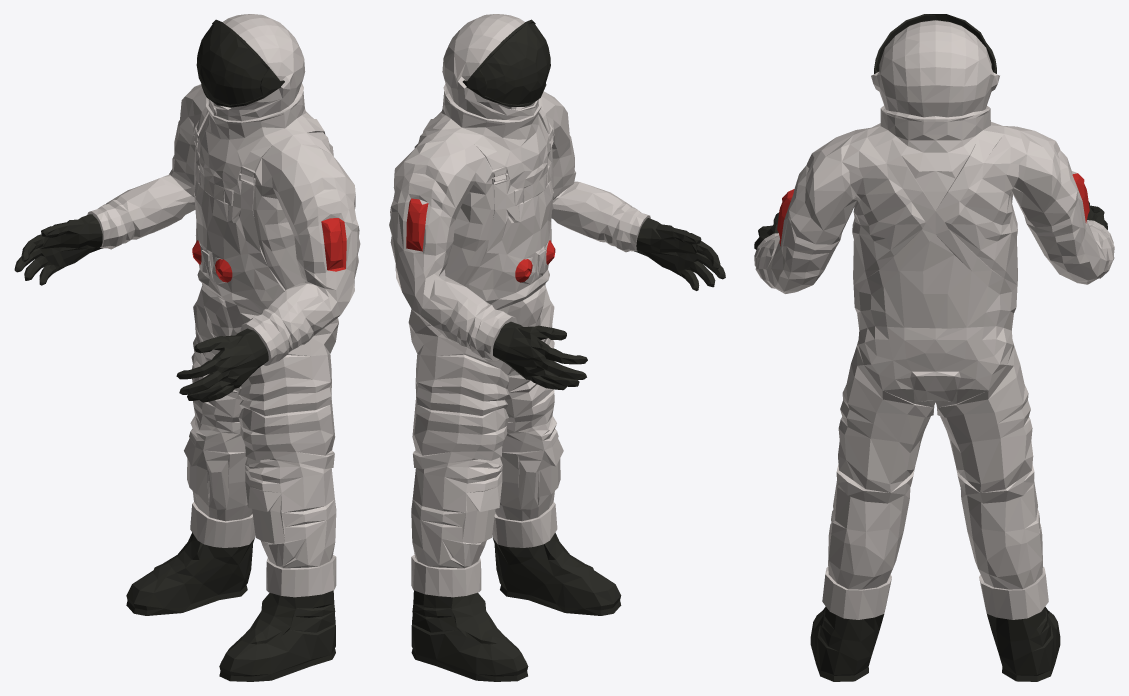
The model's file is 08  Astonaut_1.FBX.
3 renders of one model, left to right at view 1: azimuth 30°, elevation 25°; view 2: azimuth 150°, elevation 25°; view 3: azimuth 270°, elevation 25°, orthographic. The views are drawn at different scales.
Parts seen in each view (by area): view 1: astronaut_1; view 2: astronaut_1; view 3: astronaut_1.
Boxes of the visible parts, left/top/right/bottom form: astronaut_1: left=14, top=14, right=360, bottom=681; astronaut_1: left=389, top=14, right=725, bottom=681; astronaut_1: left=754, top=14, right=1114, bottom=681.
Bounding box in the file's own units: 565 × 1424 × 727.
